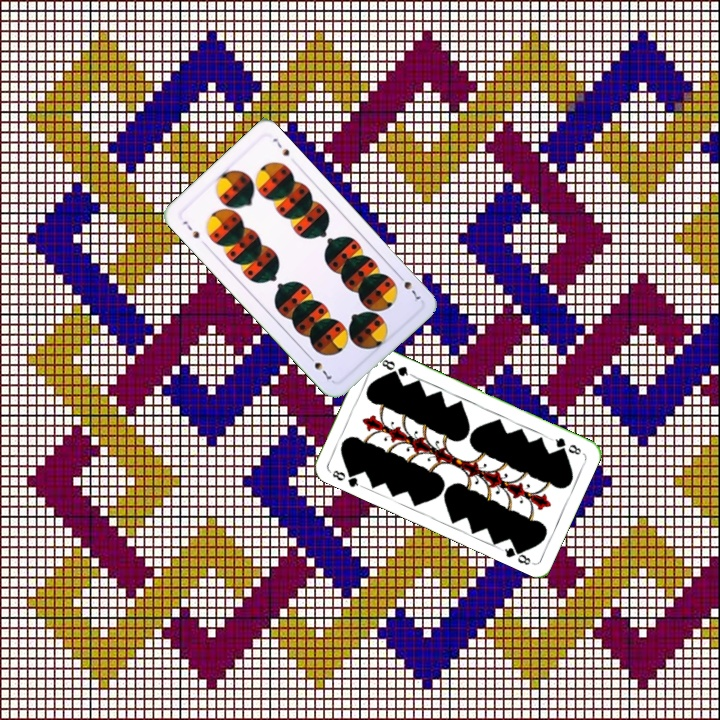G8: (325, 466, 363, 490), (547, 434, 584, 457)
S7: (393, 270, 423, 305), (179, 217, 202, 241)
